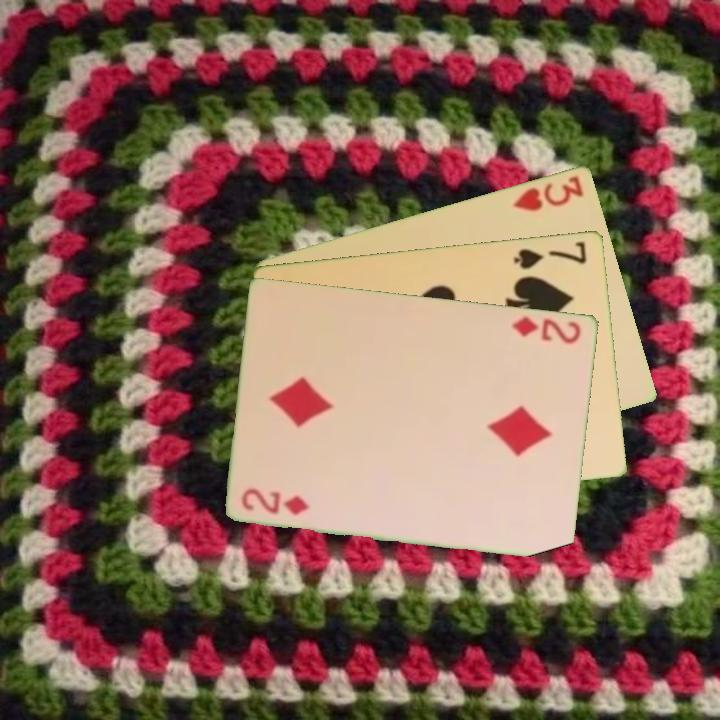2d: (509, 312, 584, 347), (239, 486, 313, 518)
3h: (510, 171, 587, 214)
7s: (510, 237, 590, 272)
